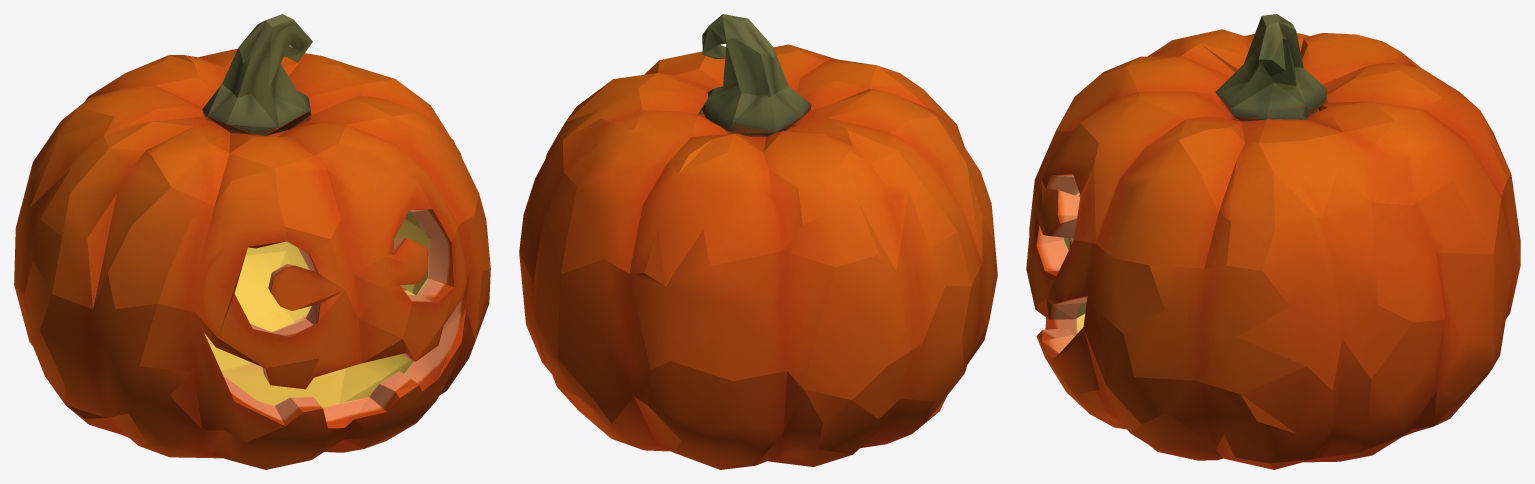
The model's file is jack_o_lantern.glb.
The picture shows the model from 3 angles, left to right: view 1: azimuth 30°, elevation 25°; view 2: azimuth 150°, elevation 25°; view 3: azimuth 270°, elevation 25°; orthographic projection. The views are drawn at different scales.
Size of the model in its own units: 1.89 by 1.7 by 1.87.
1 material, 1 textured.
